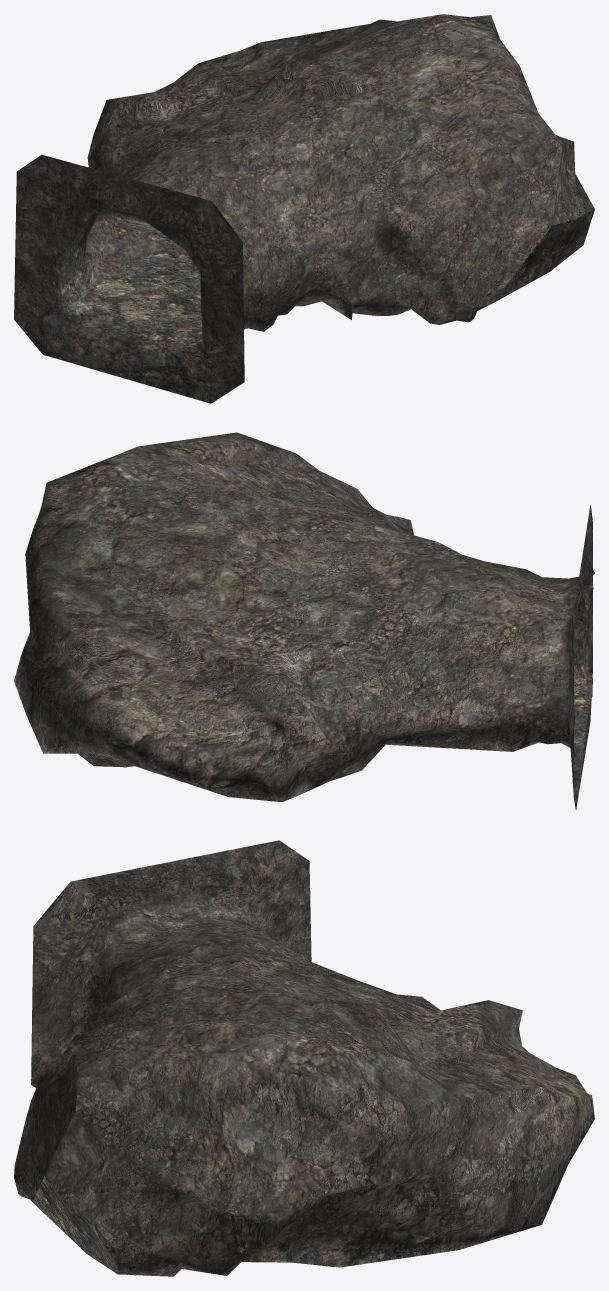
File: Cave16.fbx
3 renders of one model, top to bottom at view 1: azimuth 30°, elevation 25°; view 2: azimuth 150°, elevation 25°; view 3: azimuth 270°, elevation 25°, orthographic. The views are drawn at different scales.
Visible parts, largest first — view 1: Cave16; view 2: Cave16; view 3: Cave16.
Boxes of the visible parts, box(x1,y1,x2,y2) form: Cave16: box(14, 14, 594, 403); Cave16: box(14, 432, 594, 810); Cave16: box(14, 840, 594, 1276).
Bounding box in the file's own units: 147 × 62.73 × 128.
